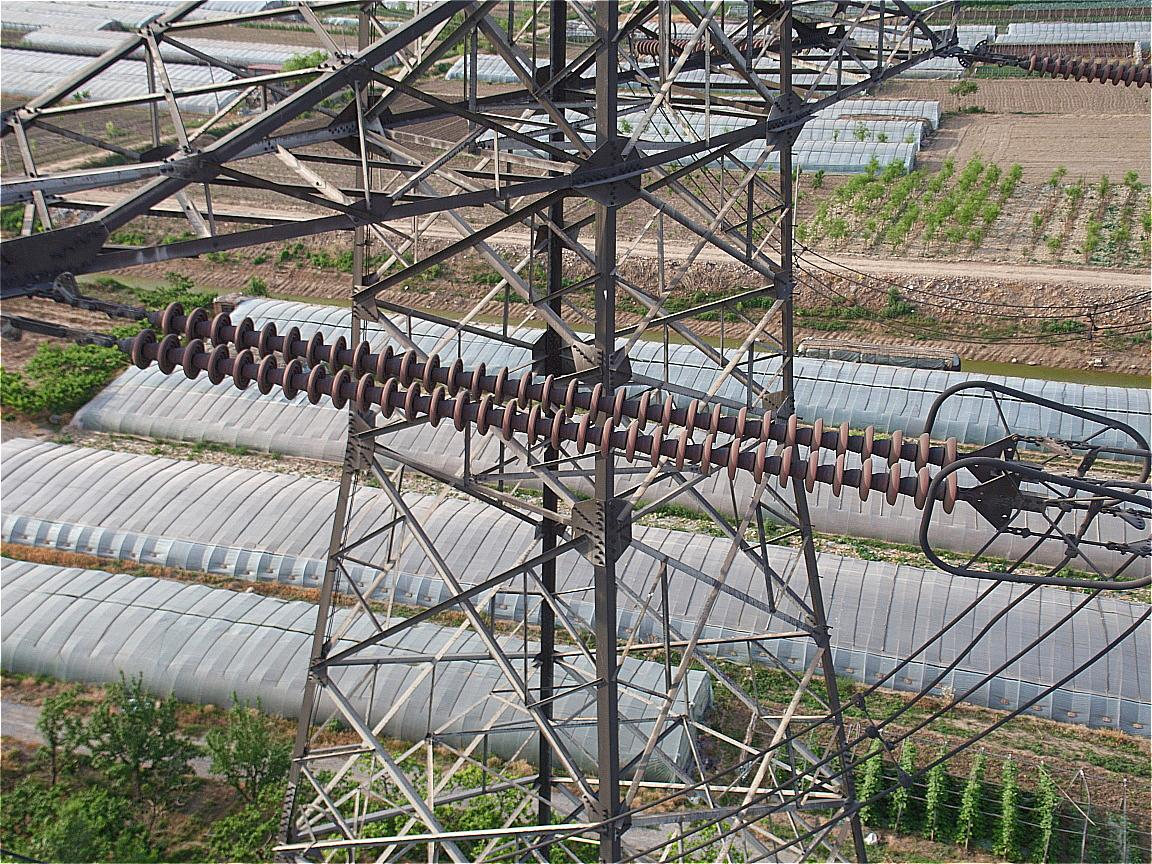insultor1: (133, 300, 958, 514)
